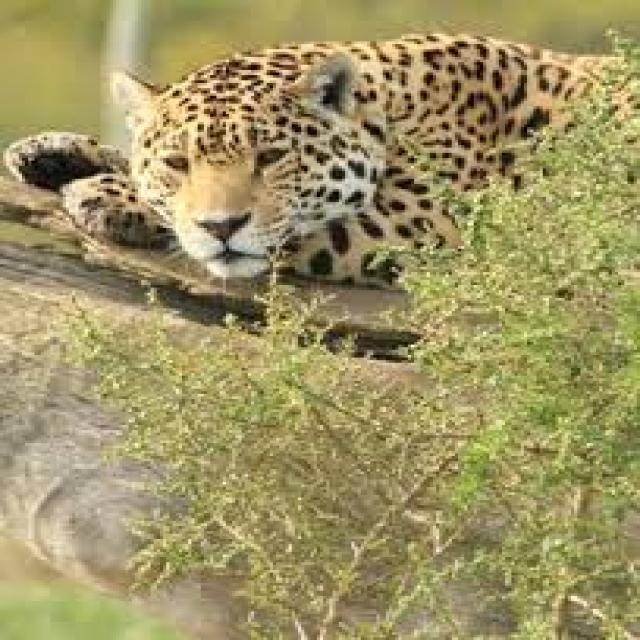Jaguar: (0, 24, 640, 308)
